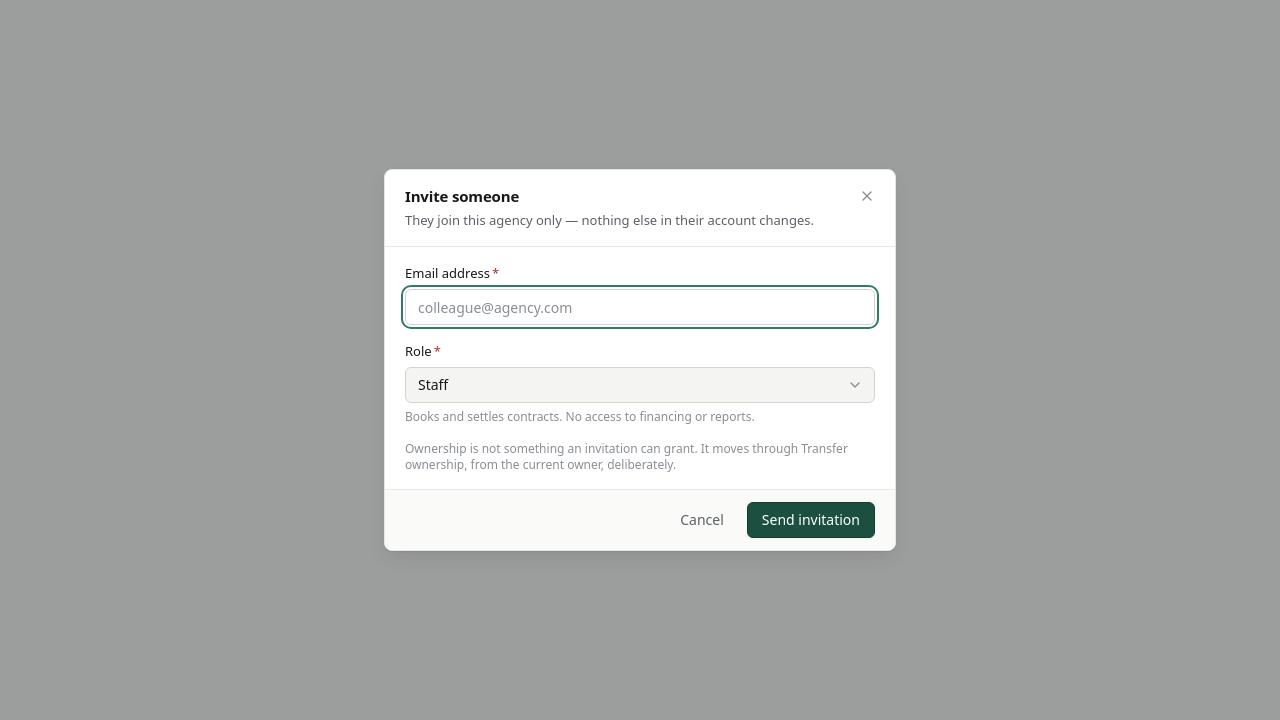
it: the invite dialog › refuses an address that is not one before anything is sent
In the field labelled "Email address*": (640, 307) [405,289,875,325], type "not-an-address"
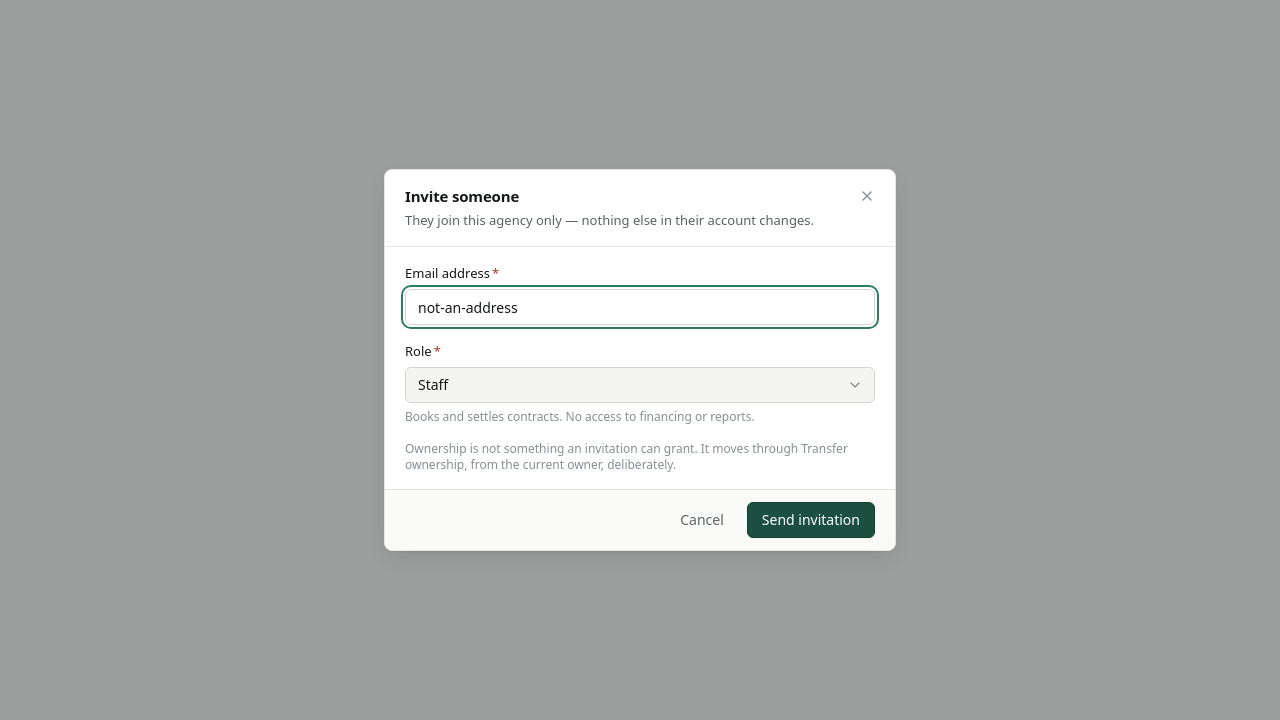
Click the button "Send invitation": (811, 520) [747,502,875,538]
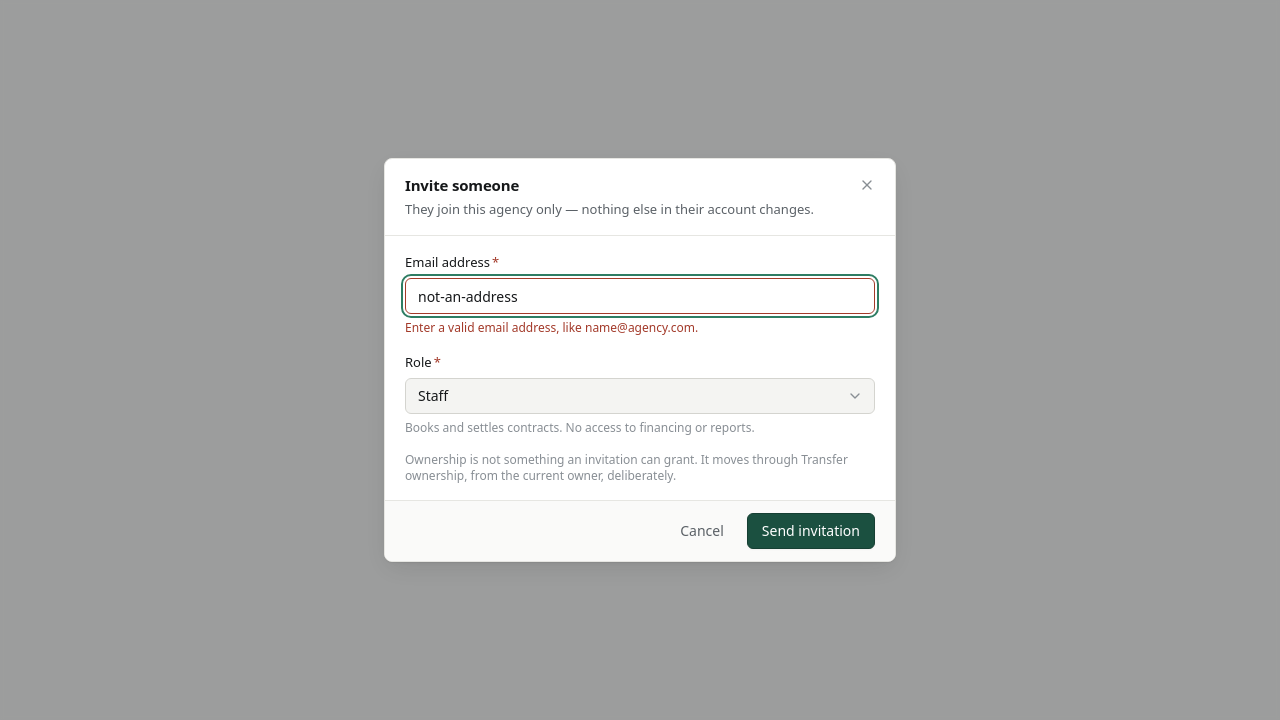
Now the text "Enter a valid email address, like name@agency.com." is shown, box [405,319,698,336]
